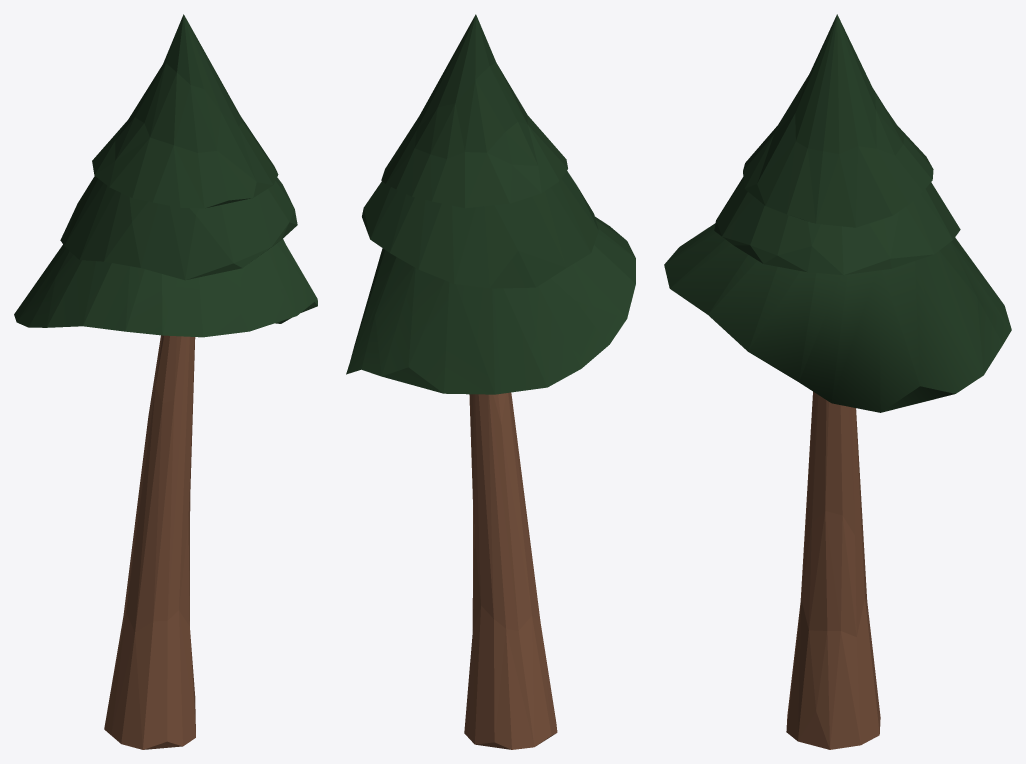
File: SM_tree_fantasy_06.fbx
3 views of the same model, side by side, from view 1: azimuth 30°, elevation 25°; view 2: azimuth 150°, elevation 25°; view 3: azimuth 270°, elevation 25° (orthographic). The views are drawn at different scales.
Parts seen in each view (by area): view 1: Object234; view 2: Object234; view 3: Object234.
Boxes of the visible parts, x1,y1,x2,y2 form: Object234: (14,14,317,749); Object234: (346,14,635,749); Object234: (664,14,1011,749).
Size of the model in its own units: 92.32 by 110 by 256.
